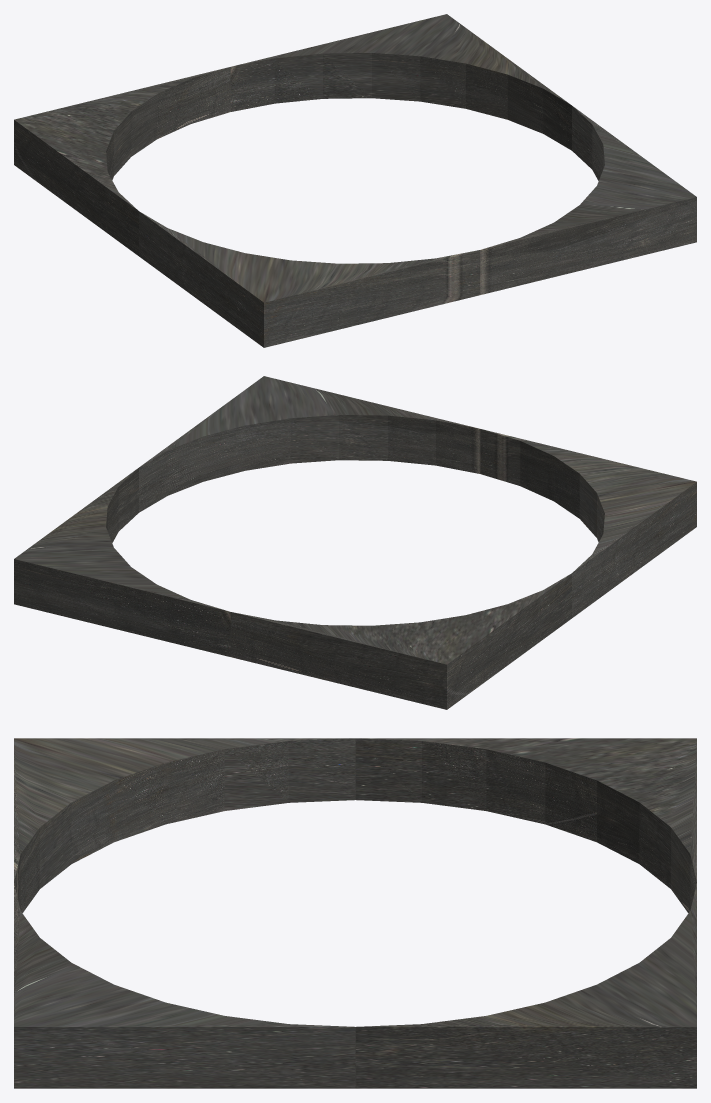
Rendered from cavityMasker.fbx.
3 views of the same model, one above another, from view 1: azimuth 30°, elevation 25°; view 2: azimuth 150°, elevation 25°; view 3: azimuth 270°, elevation 25° (orthographic). The views are drawn at different scales.
Parts seen in each view (by area): view 1: Cube; view 2: Cube; view 3: Cube.
Part boxes in pixels (box(x1,y1,x2,y2)): Cube: box(14, 14, 696, 347); Cube: box(14, 376, 696, 709); Cube: box(14, 738, 696, 1088).
Size of the model in its own units: 2 by 0.2 by 2.
